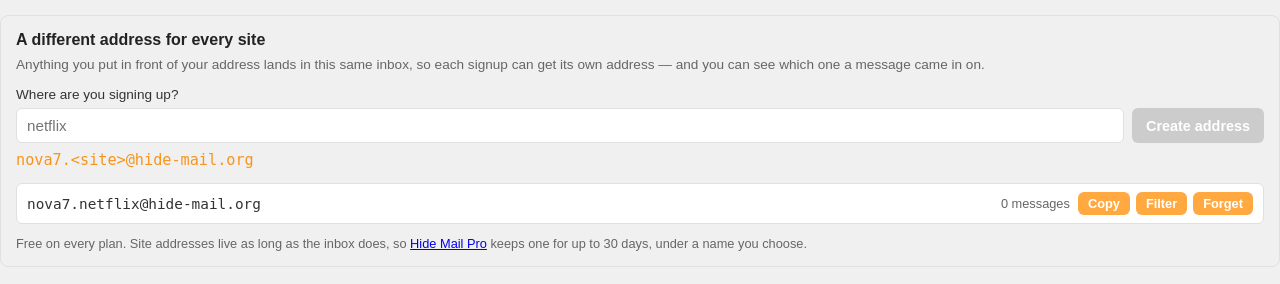
Test: SiteAddressPanel › forgets an address on request
Click the button with aria-label "forget nova7.netflix@hide-mail.org".
click(1223, 204)  # box [1193,192,1253,215]
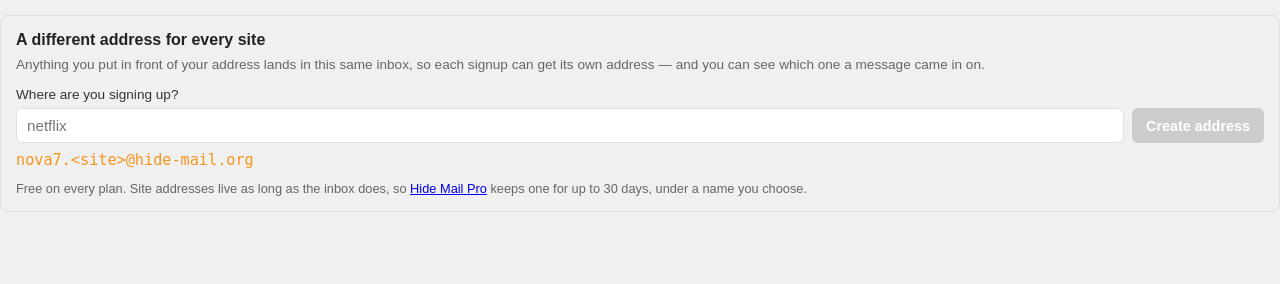
Expected: the text with test id "site-address-netflix" is gone
